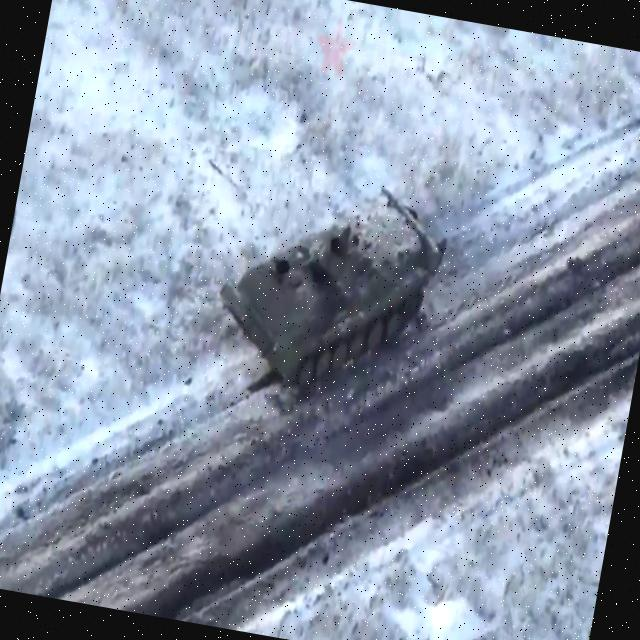AIFV: (200, 169, 458, 422)
